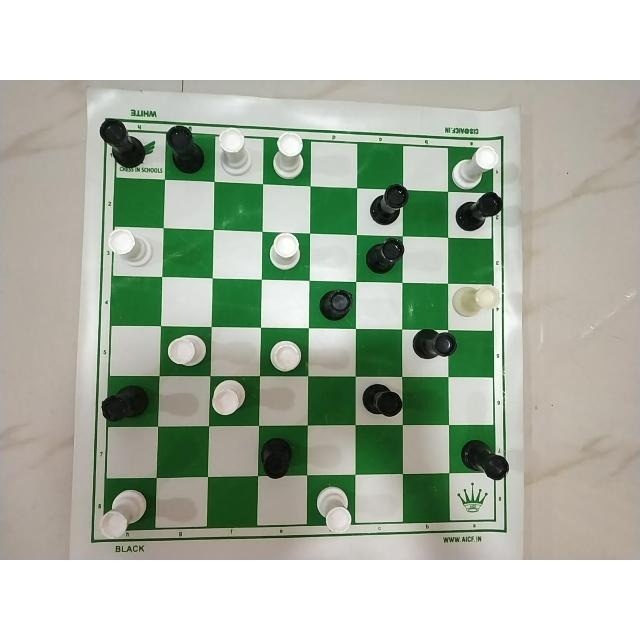black-rook: (96, 116, 148, 172), (455, 435, 513, 483), (160, 123, 207, 175), (453, 192, 505, 236), (98, 386, 153, 426), (365, 183, 411, 230), (258, 435, 302, 483), (409, 325, 458, 364), (359, 380, 404, 421), (364, 236, 406, 275), (315, 285, 357, 321)
white-rook: (97, 486, 149, 540), (313, 478, 356, 534), (103, 227, 155, 271), (451, 282, 501, 326), (451, 146, 499, 190), (270, 130, 307, 181), (216, 127, 251, 179), (165, 332, 209, 372), (211, 379, 252, 419), (265, 332, 304, 374), (268, 230, 304, 274)
